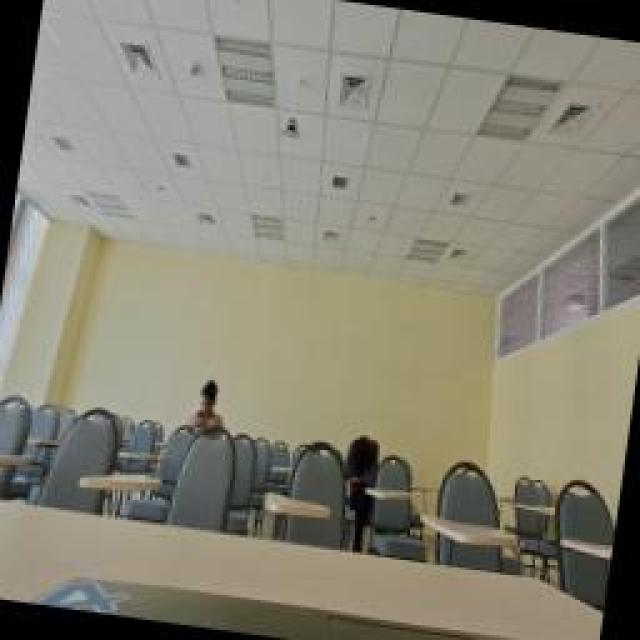phone: (182, 378, 230, 440), (340, 433, 385, 485)
